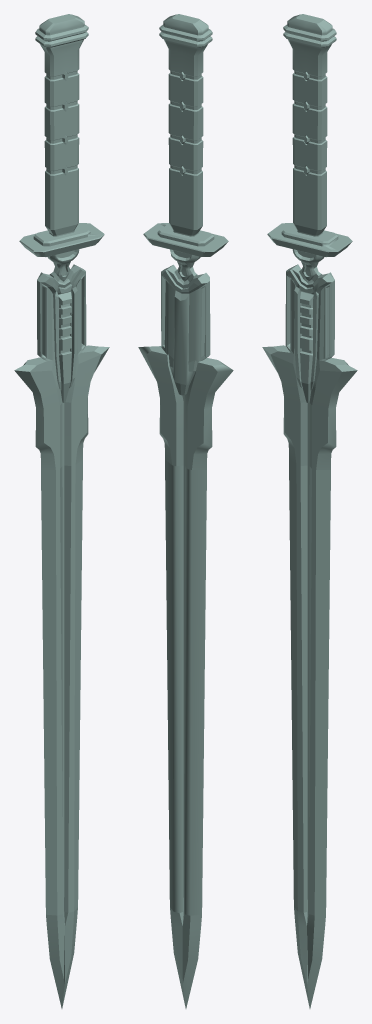
Rendered from Sword_Texture_Set 2.obj.
3 renders of one model, left to right at view 1: azimuth 30°, elevation 25°; view 2: azimuth 150°, elevation 25°; view 3: azimuth 330°, elevation 25°, orthographic.
Visible parts, largest first — view 1: Sword:Sword:Sword:Sword:textureEditorIsolateSelectSet, default; view 2: Sword:Sword:Sword:Sword:textureEditorIsolateSelectSet, default; view 3: Sword:Sword:Sword:Sword:textureEditorIsolateSelectSet, default.
Boxes of the visible parts, bbox=[...] form: Sword:Sword:Sword:Sword:textureEditorIsolateSelectSet: bbox=[14, 346, 109, 1008]; default: bbox=[19, 14, 104, 435]; Sword:Sword:Sword:Sword:textureEditorIsolateSelectSet: bbox=[138, 346, 232, 1008]; default: bbox=[143, 14, 233, 405]; Sword:Sword:Sword:Sword:textureEditorIsolateSelectSet: bbox=[262, 346, 357, 1008]; default: bbox=[267, 14, 352, 435].
Bounding box in the file's own units: 1.52 × 15.04 × 0.567.
